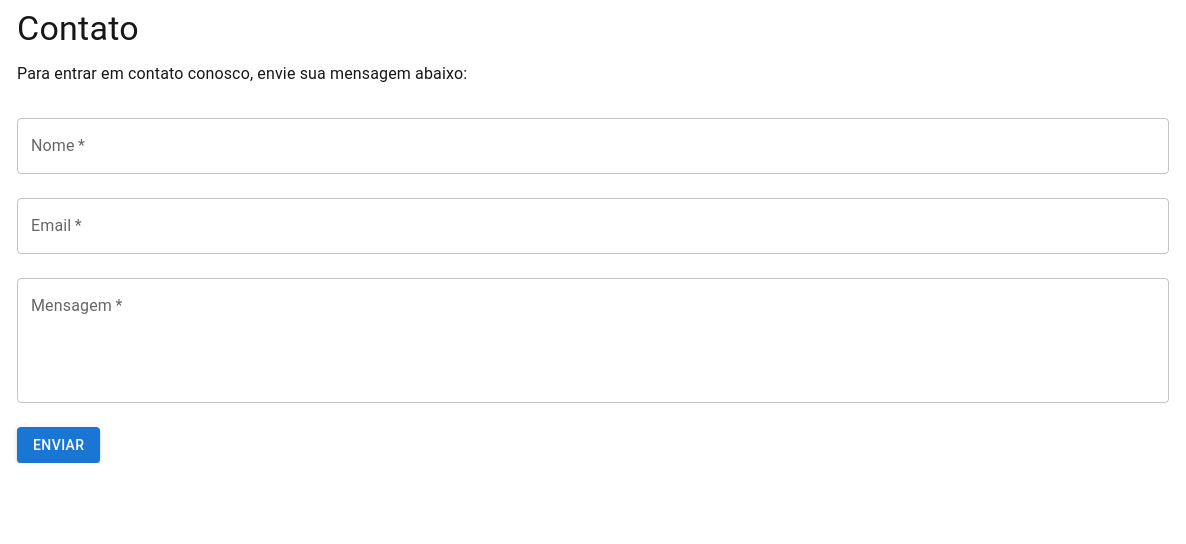
it: ContatoPage › envia mensagem com sucesso
Type "João" into the field labelled "Nome *" at (593, 146), box [17, 118, 1169, 174]
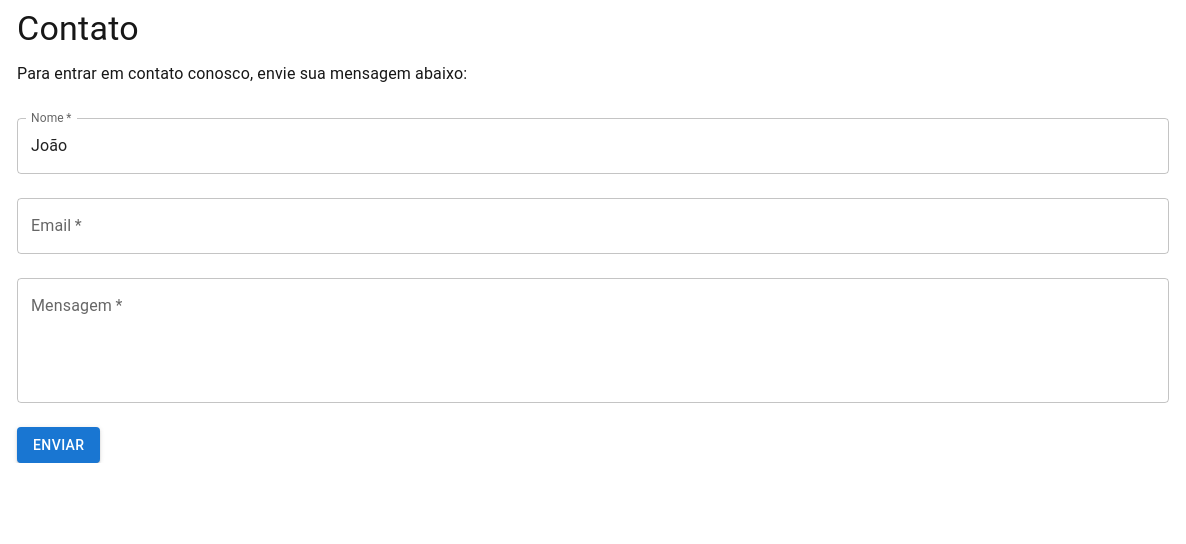
Type "joao@email.com" into the field labelled "Email *" at (593, 226), box [17, 198, 1169, 254]
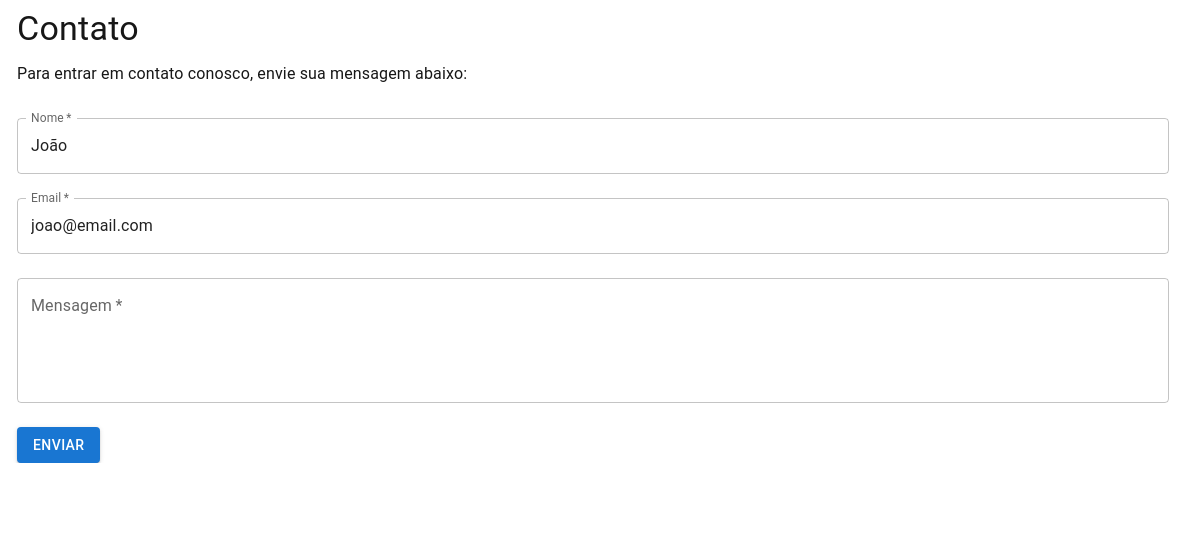
Type "Olá, tudo bem?" into the text box labelled "Mensagem *" at (593, 340), box [31, 294, 1155, 386]
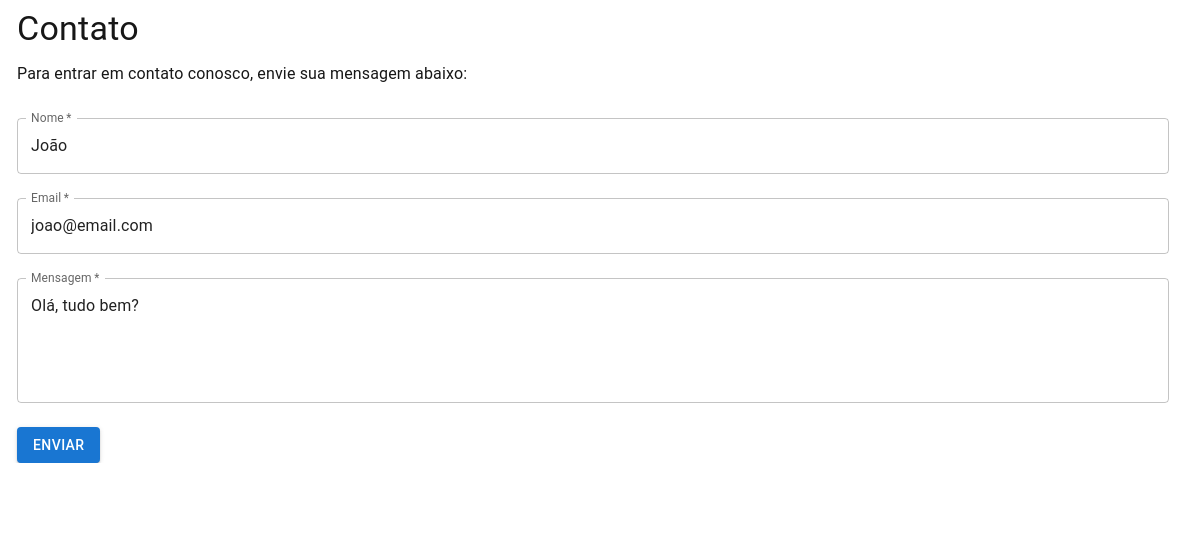
Click the button "Enviar" at (59, 445), box [17, 427, 100, 463]
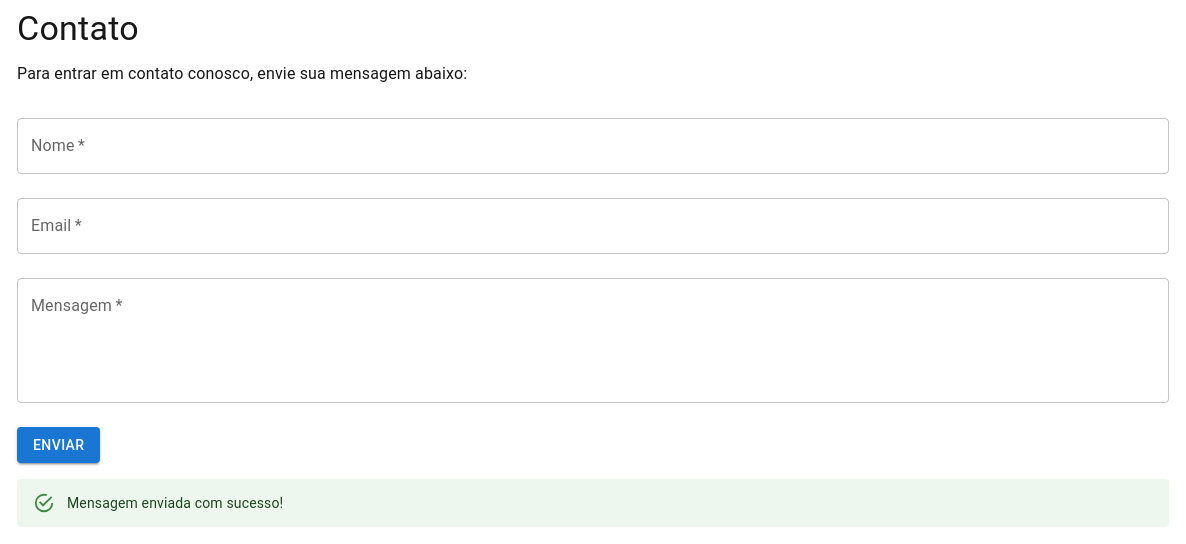
Result: the text "Mensagem enviada com sucesso!" is shown at [67, 495, 283, 511]
